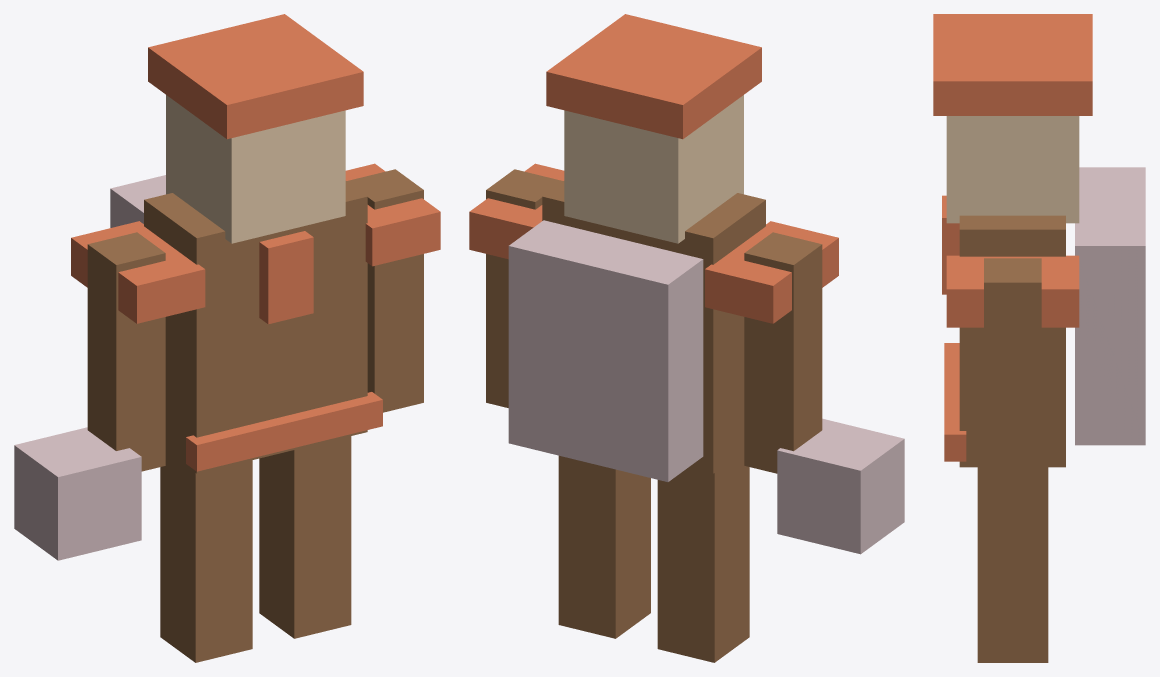
File: 01_kiva_chromabell_captain_from_couplet.glb
3 views of the same model, side by side, from view 1: azimuth 30°, elevation 25°; view 2: azimuth 150°, elevation 25°; view 3: azimuth 270°, elevation 25° (orthographic).
Visible parts, largest first — view 1: Kiva Chromabell, Captain from Couplet; view 2: Kiva Chromabell, Captain from Couplet; view 3: Kiva Chromabell, Captain from Couplet.
Part boxes in pixels (x1=…): Kiva Chromabell, Captain from Couplet: x1=14, y1=14, x2=440, y2=662; Kiva Chromabell, Captain from Couplet: x1=469, y1=14, x2=904, y2=662; Kiva Chromabell, Captain from Couplet: x1=933, y1=14, x2=1145, y2=662.
Size of the model in its own units: 0.9934 by 1.44 by 0.4792.
